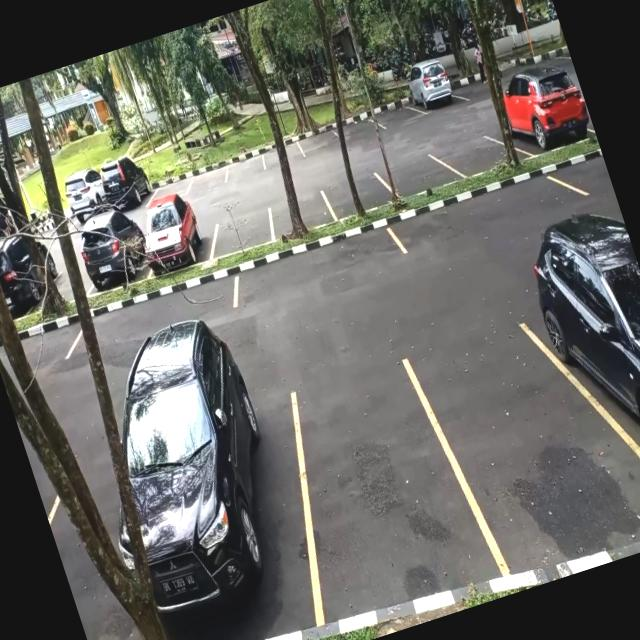empty: (266, 346, 492, 625), (418, 313, 620, 582), (388, 158, 572, 256), (228, 220, 404, 307), (204, 200, 281, 260), (265, 187, 335, 240), (382, 148, 453, 200), (443, 130, 512, 182), (324, 169, 393, 220), (370, 89, 420, 132), (331, 107, 382, 147), (180, 158, 229, 196), (294, 120, 342, 158), (257, 132, 305, 170), (221, 145, 267, 182)
occupied: (90, 338, 337, 640), (538, 262, 640, 542), (498, 62, 596, 160), (132, 197, 218, 279), (99, 159, 156, 217), (404, 64, 460, 119)
